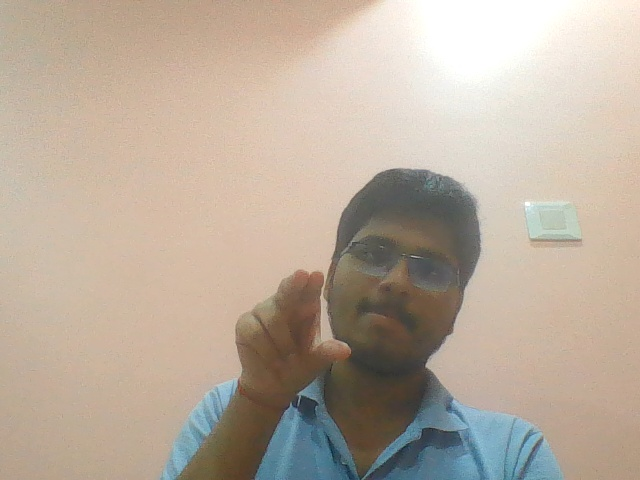no: (211, 262, 358, 406)
